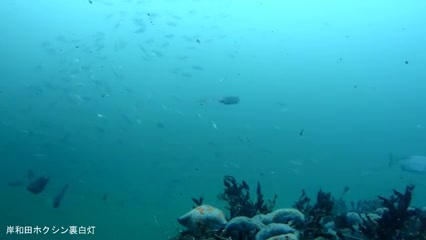smallfish: (212, 91, 246, 109)
